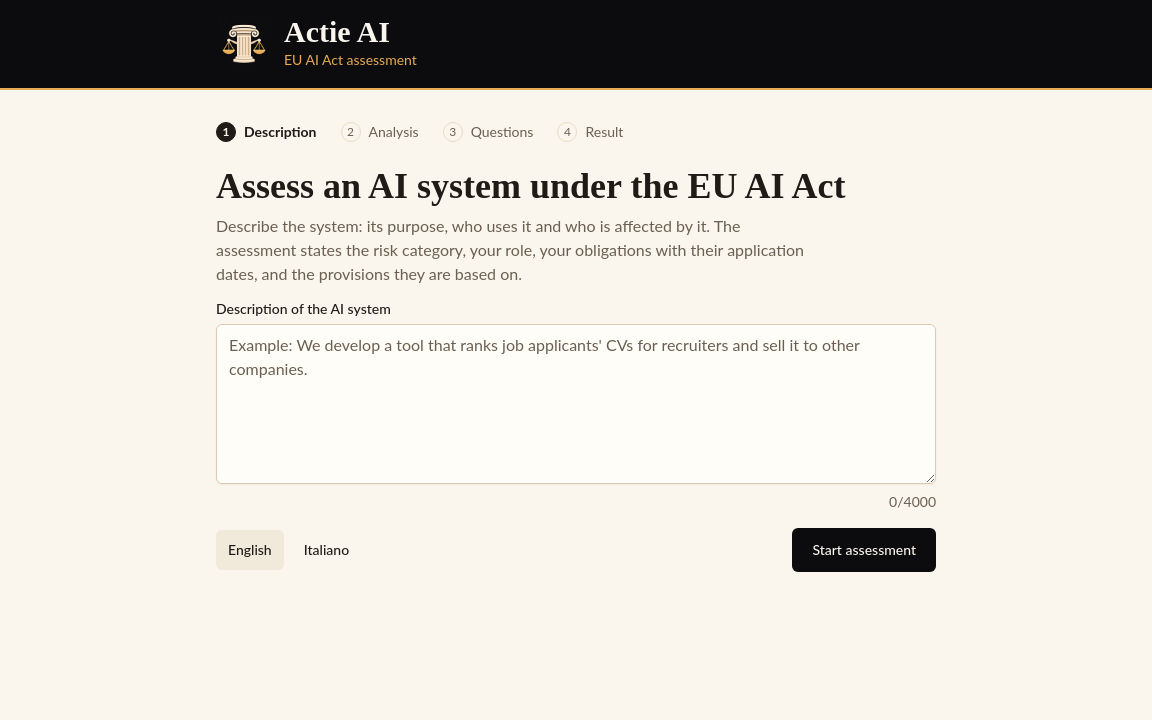
Test case: waits out a limit before it lets the user try again
Type "A bank scores consumers' credit-worthiness." into the text box labelled "Description of the AI system" at (576, 404), box [216,324,936,484]
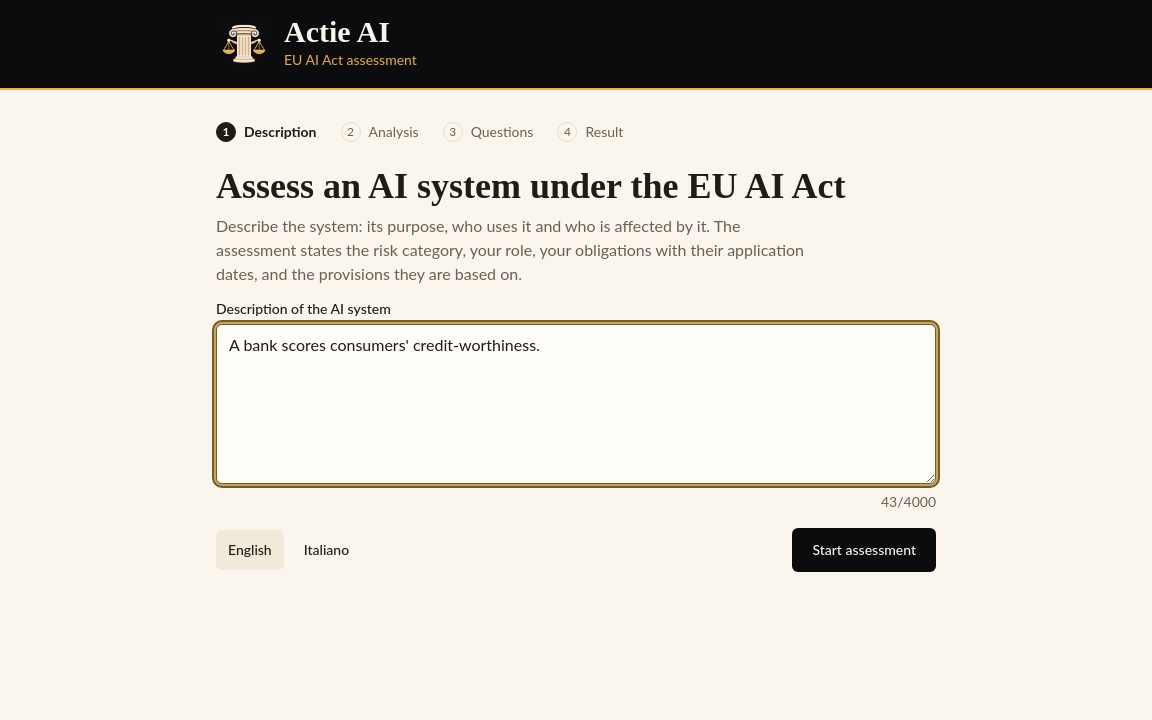
Click the button "Start assessment" at (864, 550), box [792,528,936,572]
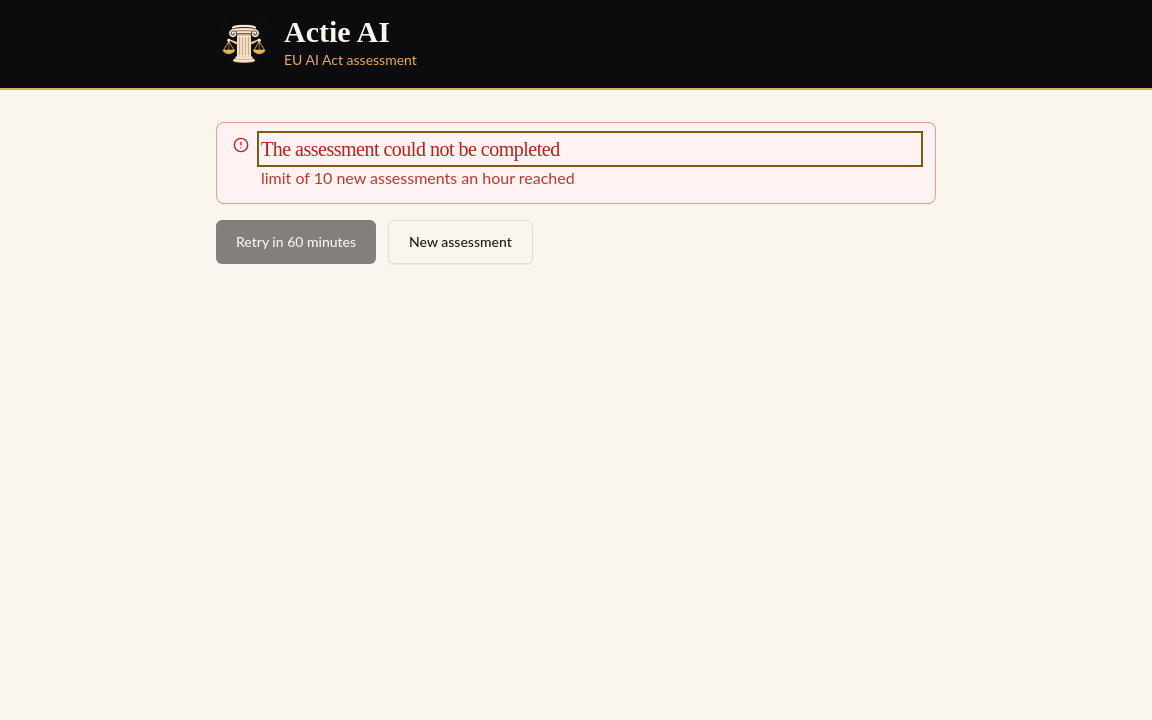
Now the text "limit of 10 new assessments an hour reached" is shown, box [261,165,575,191]
Now the button "Retry in 60 minutes" is disabled, box [216,220,376,264]
